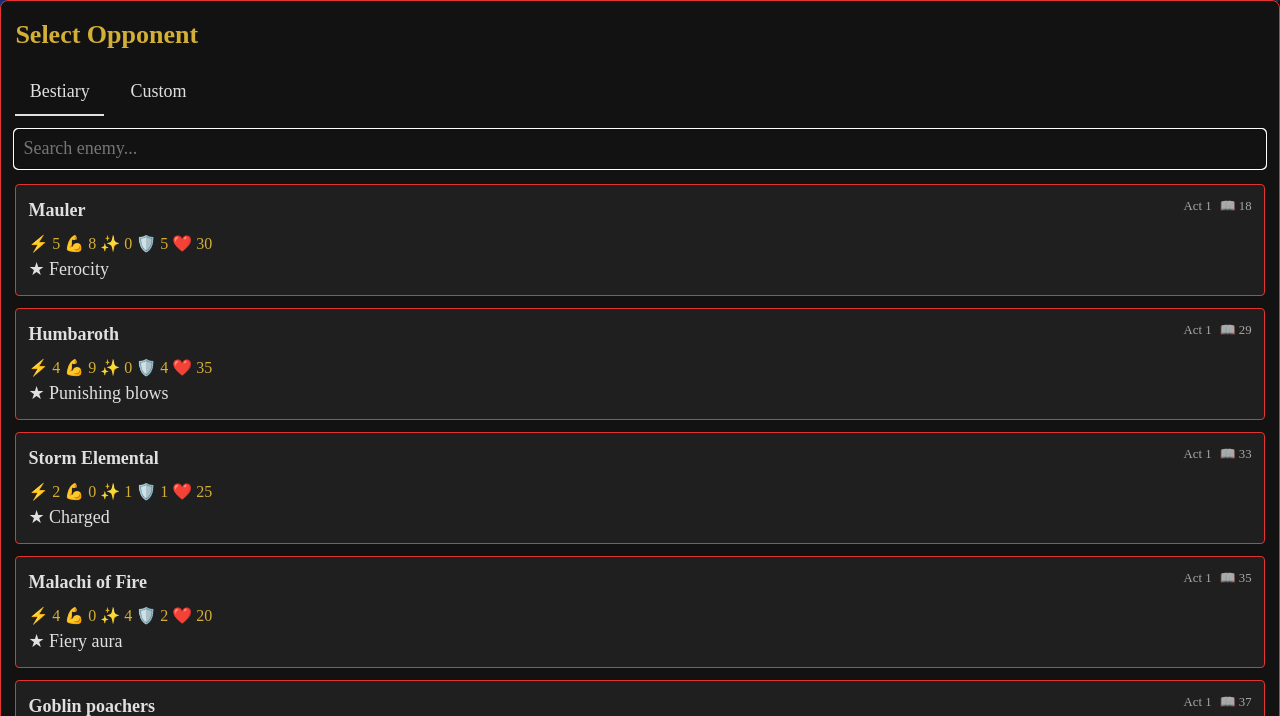
EnemySelector - Custom Enemy › initializes with Brawn active and Magic at 0
// Switch to Custom tab
Click the button "Custom" at (159, 92), box [116,69,201,116]
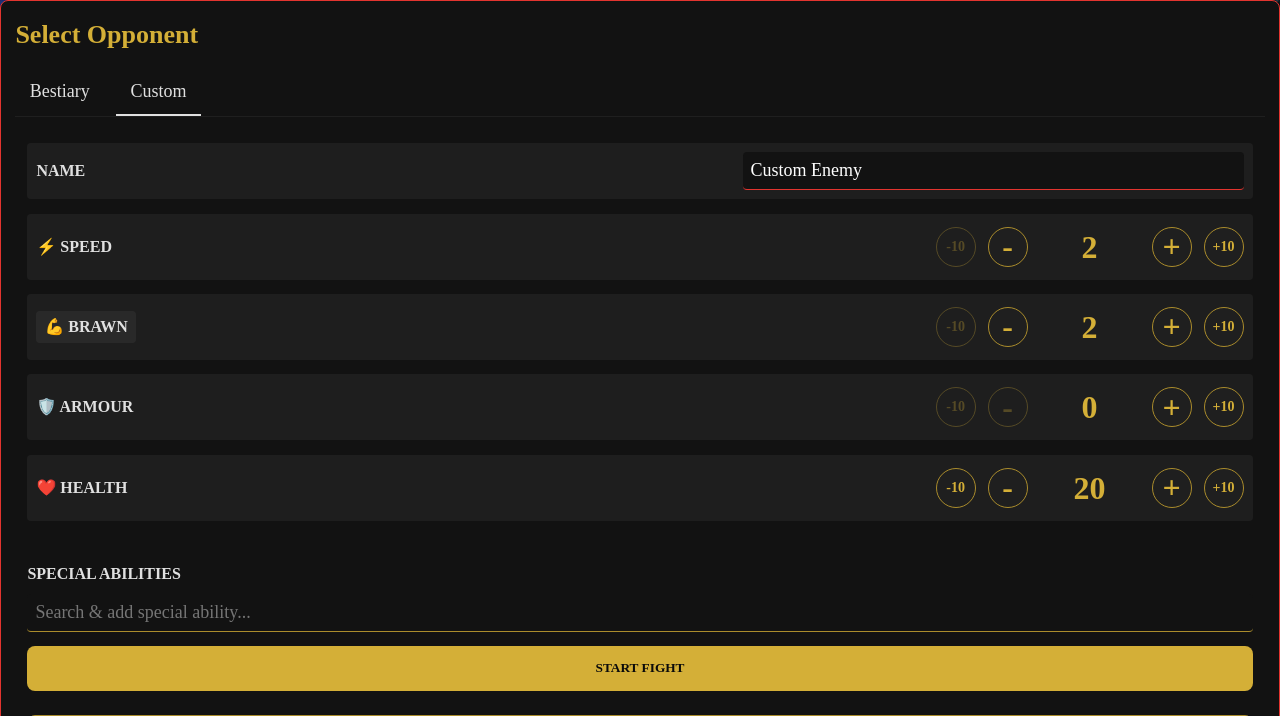
Expected: the text "2" in the row of "💪 Brawn" is shown, [1082,309,1098,345]
Result: the text "💪 Brawn" is shown at [36,311,136,343]
Result: the text "💪 Brawn -10 - 2 + +10" is shown at [27,294,1253,360]
